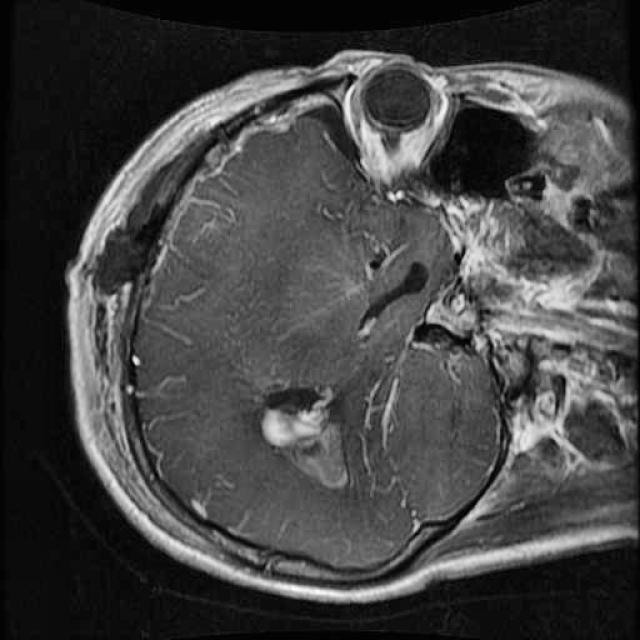Tumor: (249, 357, 375, 514)
